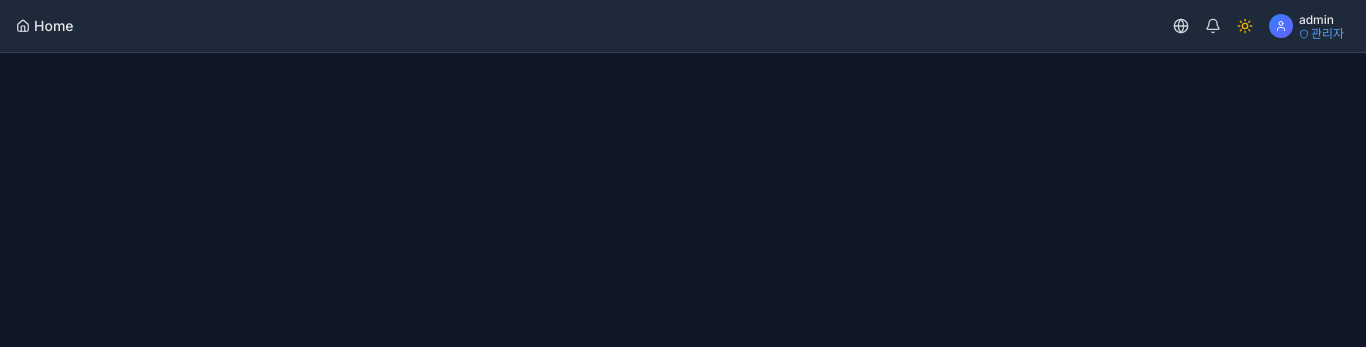
Test: Header › should open user menu dropdown when user button is clicked
// Click user menu button
Click the button with aria-label "사용자 메뉴" at (1306, 26), box [1263,6,1350,46]
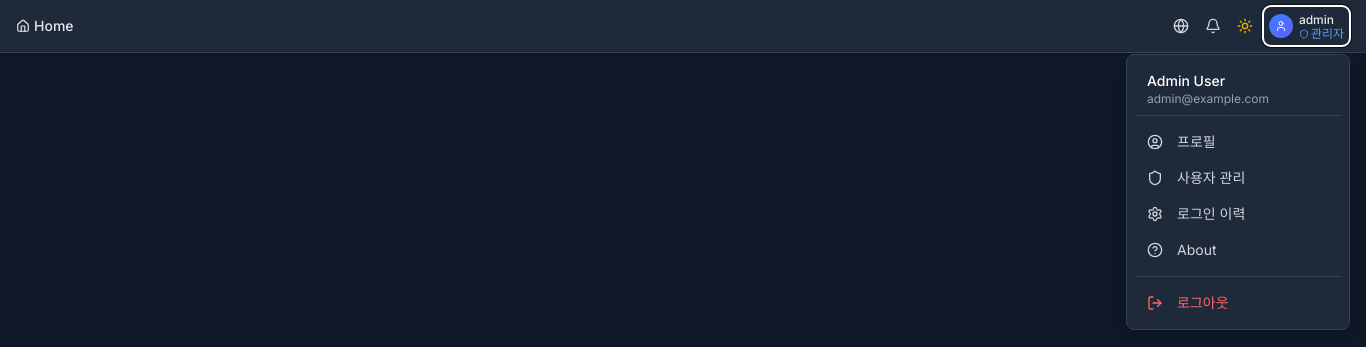
Result: the text "Admin User" is shown at [1147,72,1225,89]
Result: the text "admin@example.com" is shown at [1147,91,1269,106]
Result: the button "프로필" is shown at [1135,124,1341,160]
